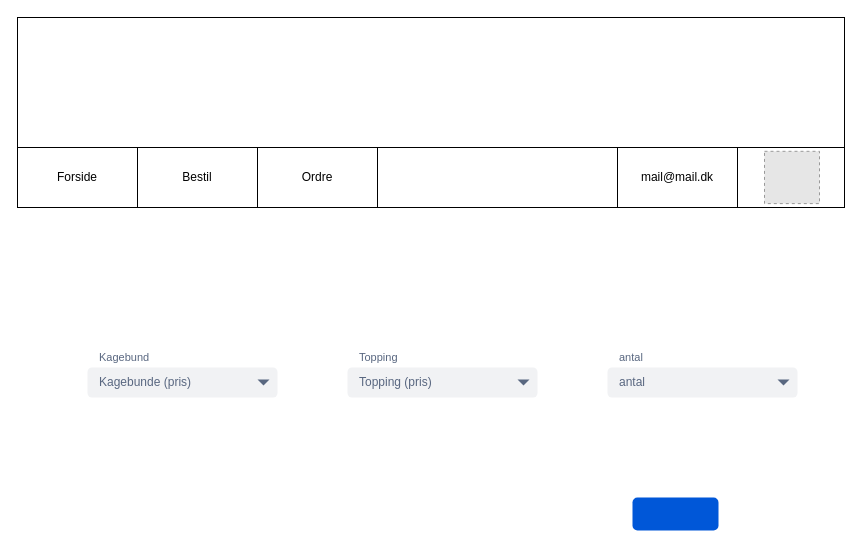
Some shapes in this 862 by 548 pixel diagram are drawn without their labels. Grey dashed boxes stand in for pictures. The box of each missing label's shape, as (x1, y1, x2, y2) in pixels:
LOGO: (16, 16, 844, 148)
Læg i kurv: (632, 497, 718, 530)
